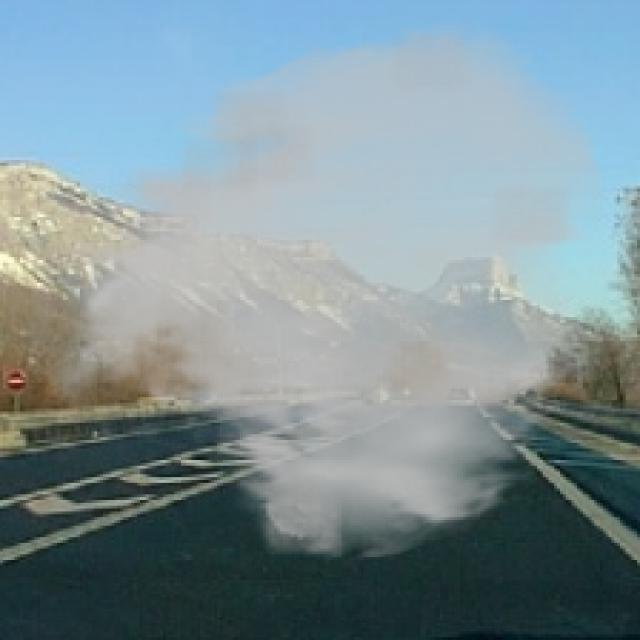Smoke: (46, 17, 608, 566)
